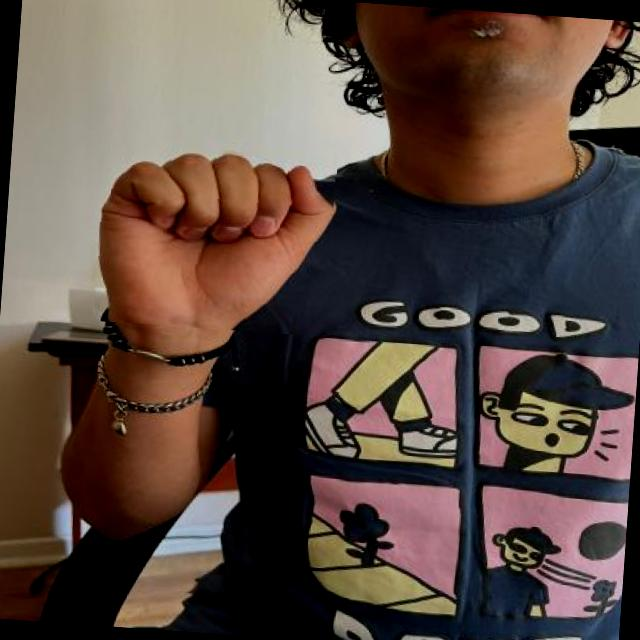A: (91, 136, 338, 336)
